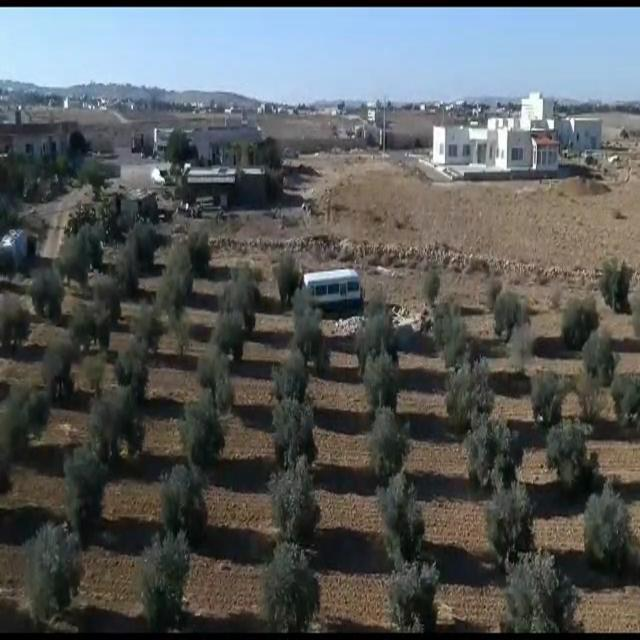trees: (504, 543, 585, 638), (20, 521, 88, 615), (262, 544, 326, 640), (136, 521, 191, 630), (580, 485, 640, 575), (464, 414, 529, 488), (266, 460, 322, 543), (376, 472, 430, 557), (481, 485, 538, 565), (79, 399, 148, 465), (544, 421, 606, 494), (383, 558, 441, 636), (64, 445, 110, 540), (154, 466, 212, 537), (364, 400, 418, 473), (442, 361, 498, 429), (269, 400, 327, 464), (171, 398, 226, 465), (292, 290, 330, 374), (349, 300, 402, 357), (6, 384, 50, 452), (50, 234, 96, 292), (555, 286, 599, 345), (360, 353, 407, 407), (193, 341, 234, 401), (527, 371, 572, 419), (504, 322, 540, 382), (28, 268, 65, 324), (64, 307, 112, 349), (494, 292, 535, 341), (224, 275, 261, 328), (568, 372, 607, 422), (112, 352, 153, 399), (214, 311, 248, 367), (600, 262, 634, 318), (584, 333, 618, 388), (40, 346, 73, 401), (271, 357, 308, 403), (0, 301, 32, 354), (116, 237, 142, 302), (612, 376, 640, 432), (128, 230, 164, 272), (438, 338, 488, 368), (154, 273, 189, 315), (276, 250, 299, 311), (140, 312, 168, 362), (90, 274, 125, 312), (185, 230, 211, 280), (75, 230, 106, 269), (85, 348, 108, 398), (172, 310, 192, 362), (432, 305, 462, 339), (166, 248, 195, 277), (421, 268, 444, 304), (0, 440, 13, 499), (484, 285, 500, 307)
